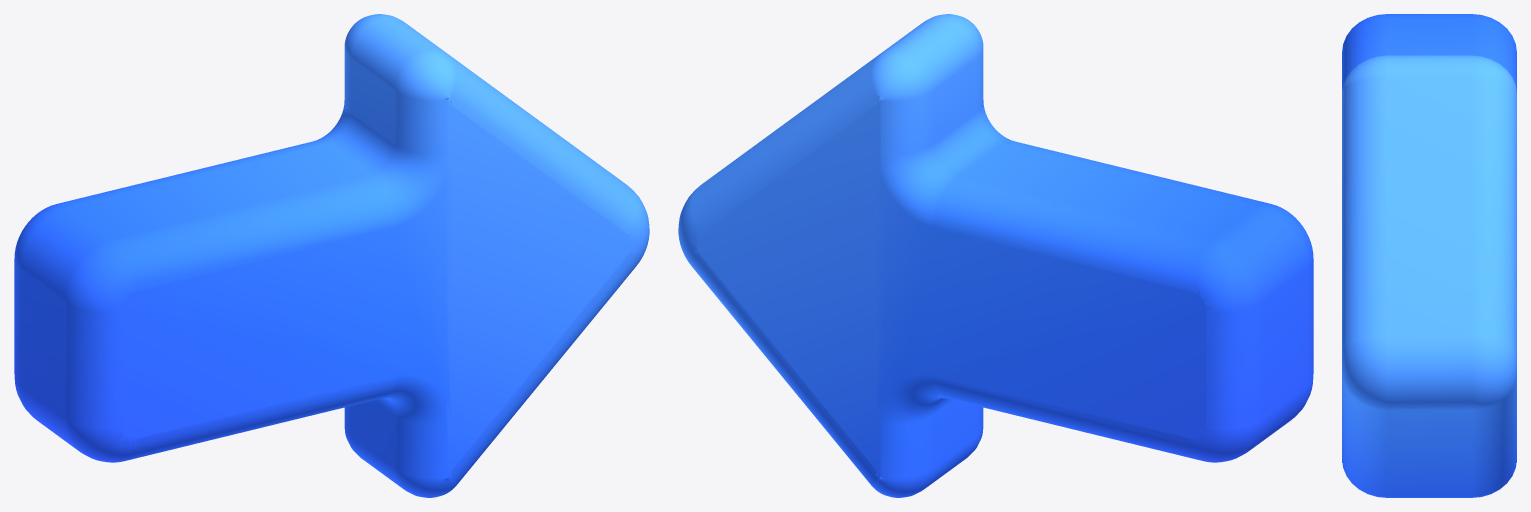
The model's file is back.glb.
3 renders of one model, left to right at view 1: azimuth 30°, elevation 25°; view 2: azimuth 150°, elevation 25°; view 3: azimuth 270°, elevation 25°, orthographic.
Parts seen in each view (by area): view 1: arrow; view 2: arrow; view 3: arrow.
Boxes of the visible parts, x1,y1,x2,y2 form: arrow: (14, 14, 649, 497); arrow: (678, 14, 1313, 497); arrow: (1342, 14, 1516, 497).
Size of the model in its own units: 0.085 by 0.0623 by 0.0227.
